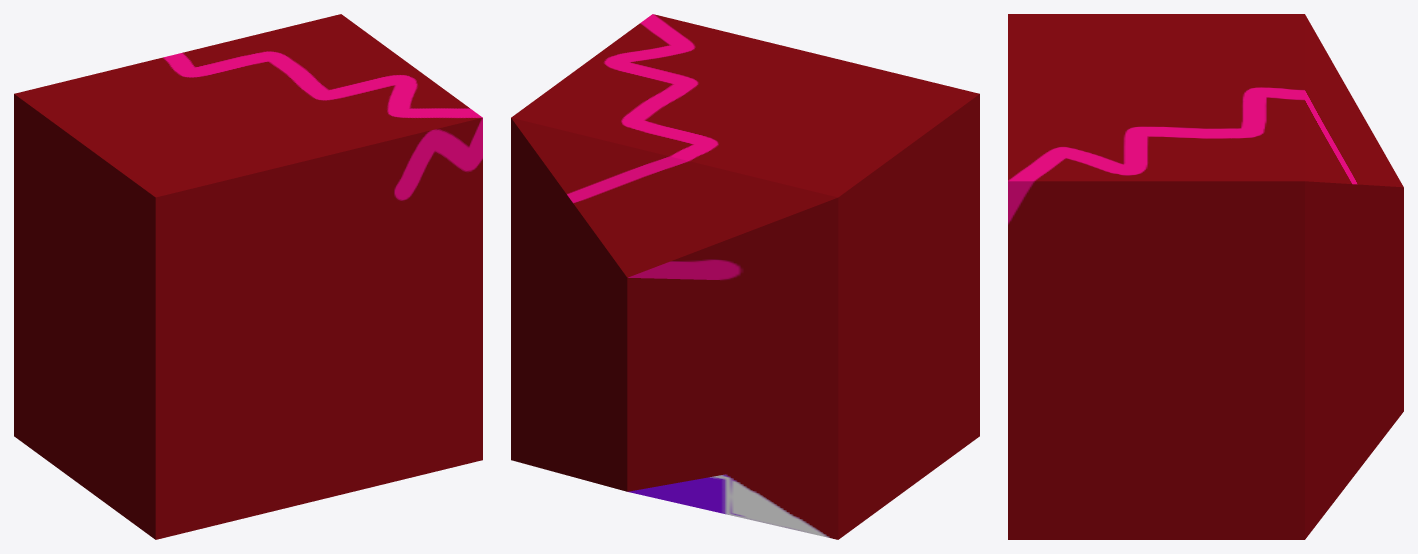
File: Enemy.obj
3 views of the same model, side by side, from view 1: azimuth 30°, elevation 25°; view 2: azimuth 150°, elevation 25°; view 3: azimuth 270°, elevation 25° (orthographic). The views are drawn at different scales.
Parts seen in each view (by area): view 1: Cube; view 2: Cube; view 3: Cube.
Part boxes in pixels (bbox=[...]): Cube: bbox=[14, 14, 482, 539]; Cube: bbox=[511, 14, 979, 539]; Cube: bbox=[1008, 14, 1403, 539].
Bounding box in the file's own units: 2 × 2 × 2.
Materials: 1 (1 with a texture image).
